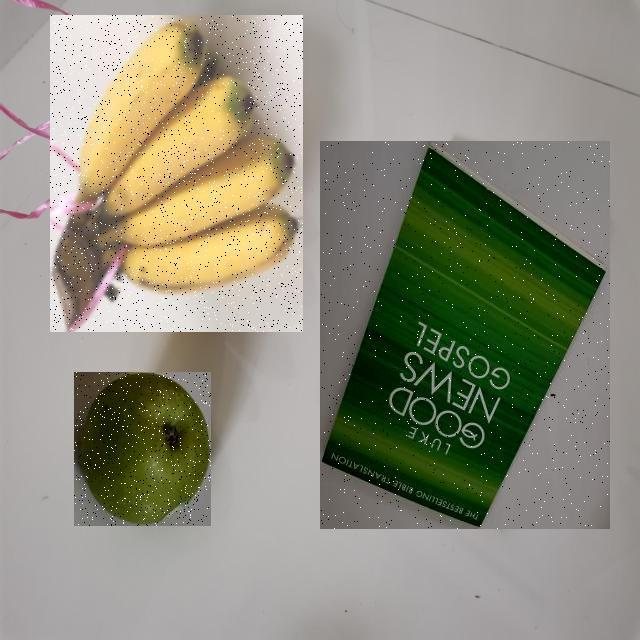apple: (0, 263, 180, 640)
banana: (0, 166, 202, 498)
